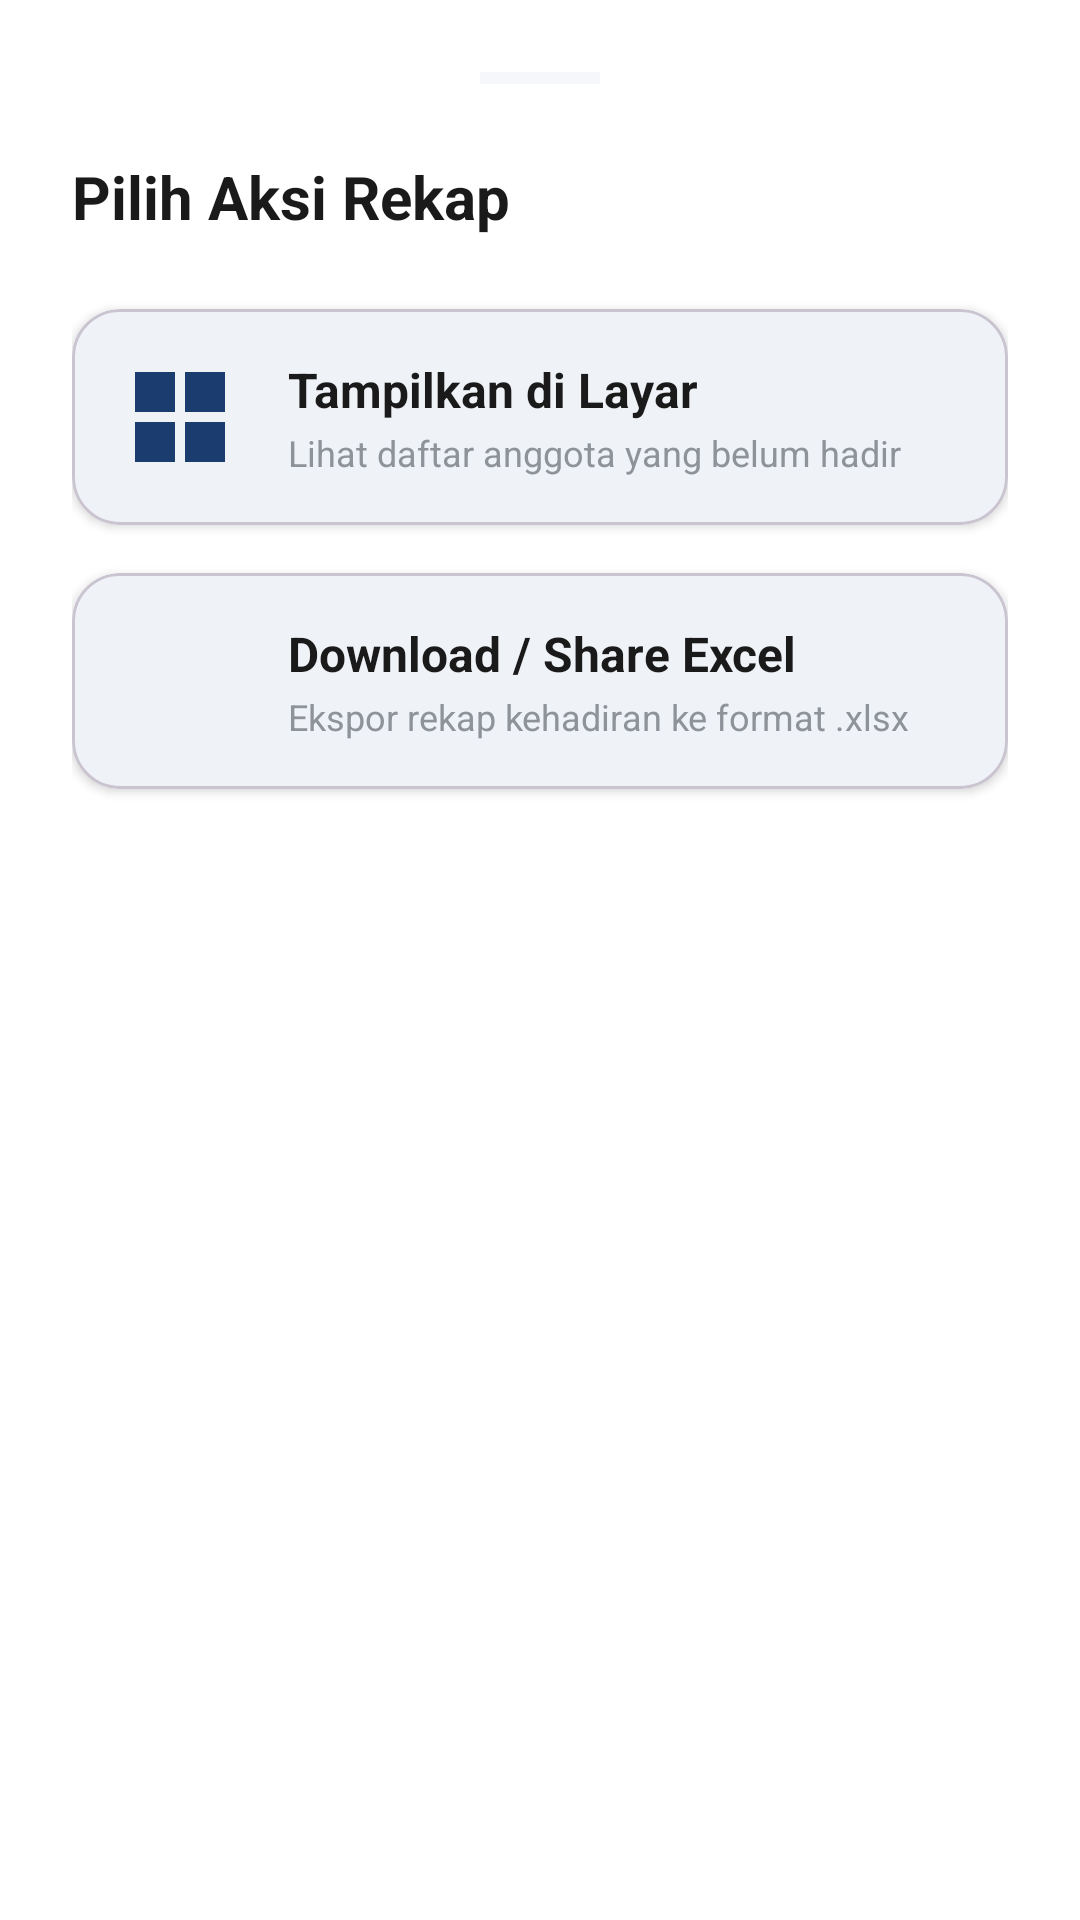

Icon bounding boxes for this 1080 x 1920 phone screenshot, format (x1=x1, y1=y1, x2=x2, y2=y2):
layout: (x1=135, y1=372, x2=225, y2=462)
